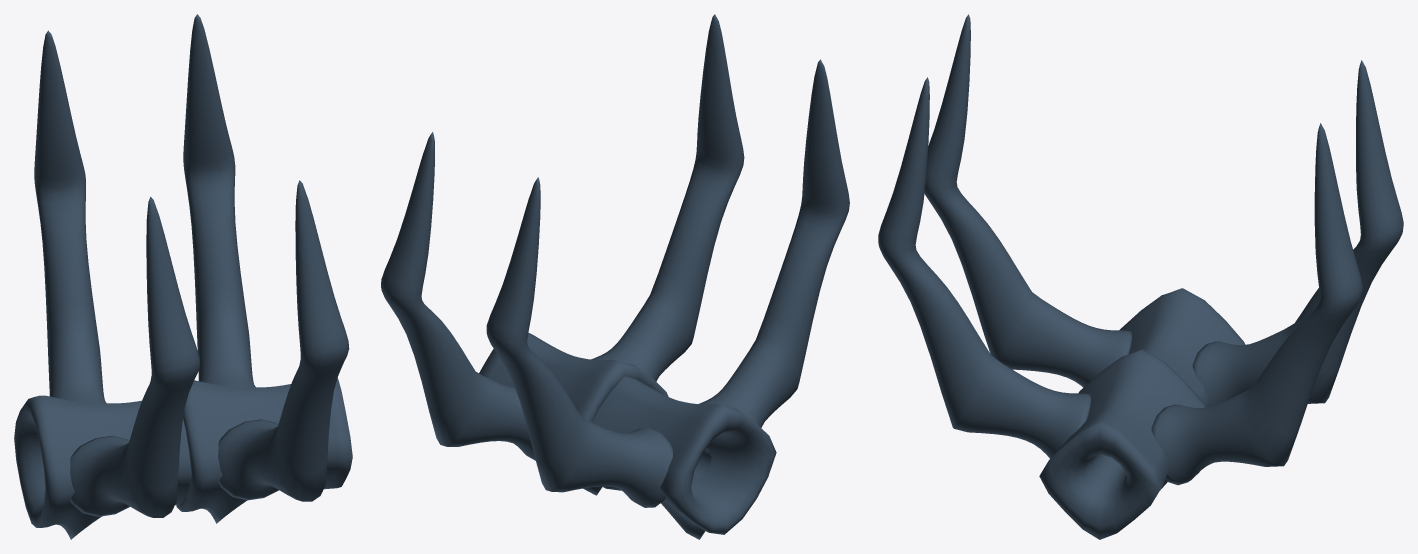
Rendered from alfin ribs.fbx.
The picture shows the model from 3 angles, left to right: view 1: azimuth 30°, elevation 25°; view 2: azimuth 150°, elevation 25°; view 3: azimuth 270°, elevation 25°; orthographic projection. The views are drawn at different scales.
Parts seen in each view (by area): view 1: Cube.002, alfin rib; view 2: Cube.002, alfin rib; view 3: Cube.002, alfin rib.
Boxes of the visible parts, x1,y1,x2,y2 form: Cube.002: [34, 14, 349, 517]; alfin rib: [14, 378, 352, 539]; Cube.002: [381, 14, 849, 507]; alfin rib: [479, 332, 776, 539]; Cube.002: [878, 14, 1403, 485]; alfin rib: [1039, 288, 1245, 539].
Bounding box in the file's own units: 60.13 × 82.81 × 92.78.
